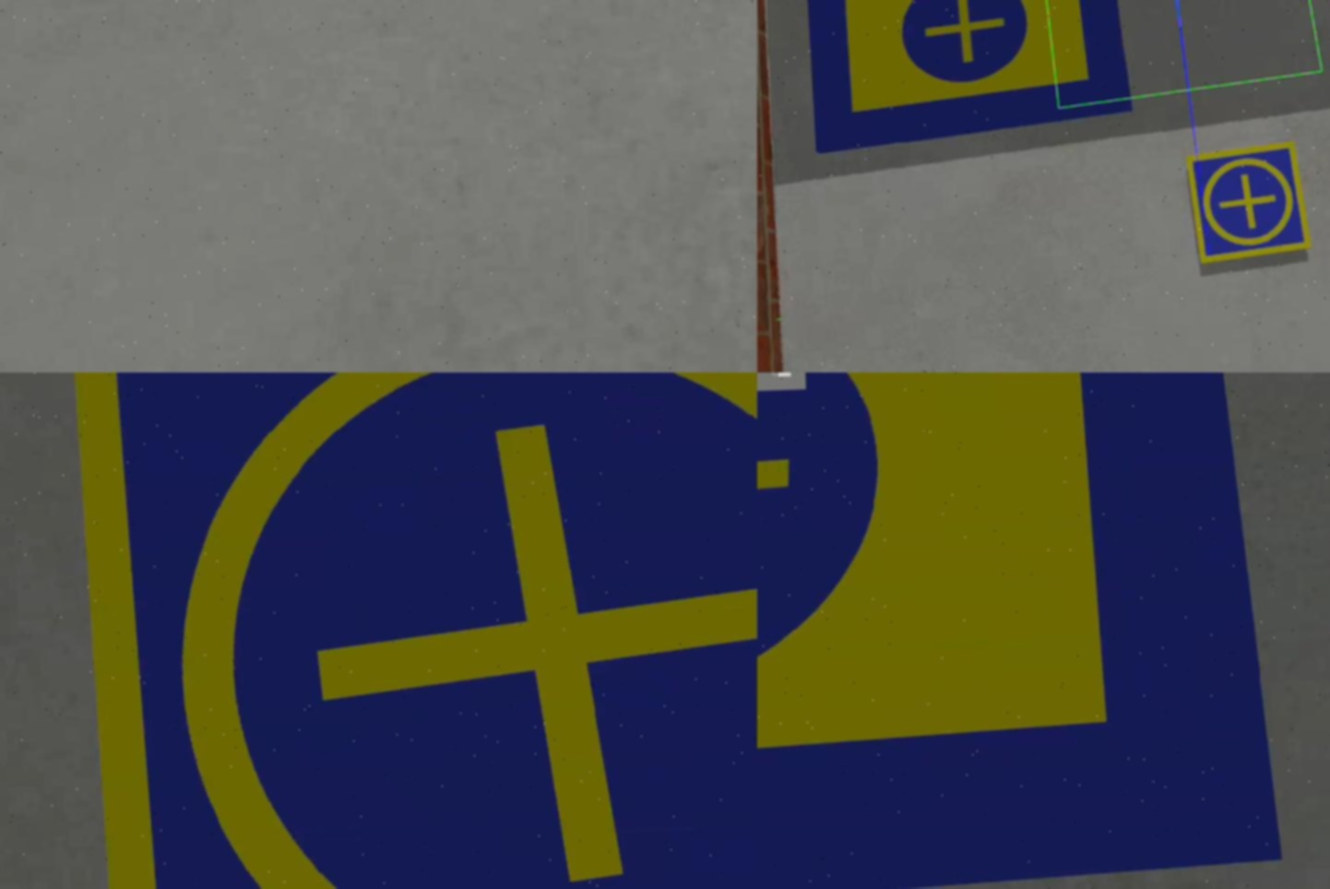large_base: (757, 373, 1289, 889), (804, 1, 1137, 158)
small_base: (65, 373, 757, 889), (1184, 142, 1313, 271)
